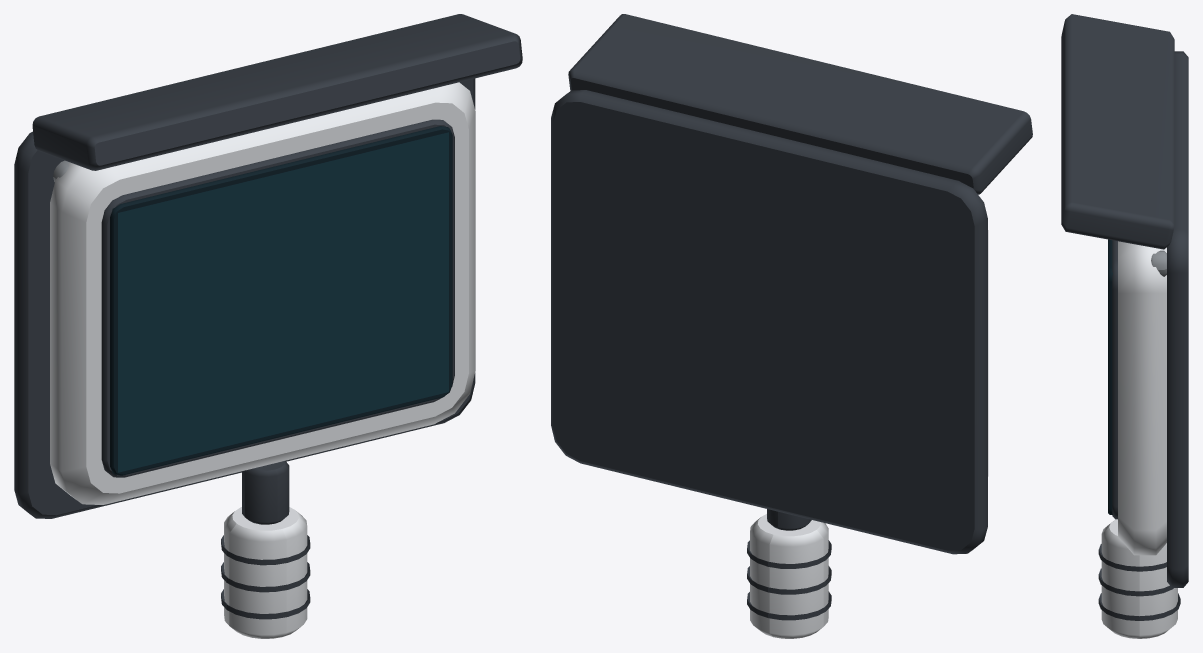
The model's file is thermometre.glb.
3 views of the same model, side by side, from view 1: azimuth 30°, elevation 25°; view 2: azimuth 150°, elevation 25°; view 3: azimuth 270°, elevation 25° (orthographic). The views are drawn at different scales.
Parts seen in each view (by area): view 1: ecran_affichage.002, pieces_meteo_cadre.002, pieces_meteo_boitier.002, pieces_meteo_ecran.002; view 2: pieces_meteo_cadre.002, pieces_meteo_boitier.002; view 3: pieces_meteo_cadre.002, pieces_meteo_boitier.002, pieces_meteo_ecran.002, pieces_meteo_mat.002.
Part boxes in pixels (x1,y1,x2,y2): ecran_affichage.002: (118,132,448,472); pieces_meteo_cadre.002: (14,14,522,619); pieces_meteo_boitier.002: (50,82,475,638); pieces_meteo_ecran.002: (110,126,452,475); pieces_meteo_cadre.002: (551,14,1032,620); pieces_meteo_boitier.002: (750,230,988,638); pieces_meteo_cadre.002: (1061,14,1188,620); pieces_meteo_boitier.002: (1101,241,1177,638); pieces_meteo_ecran.002: (1108,239,1112,514); pieces_meteo_mat.002: (1151,250,1166,276).
Bounding box in the file's own units: 0.44 × 0.5237 × 0.117.
